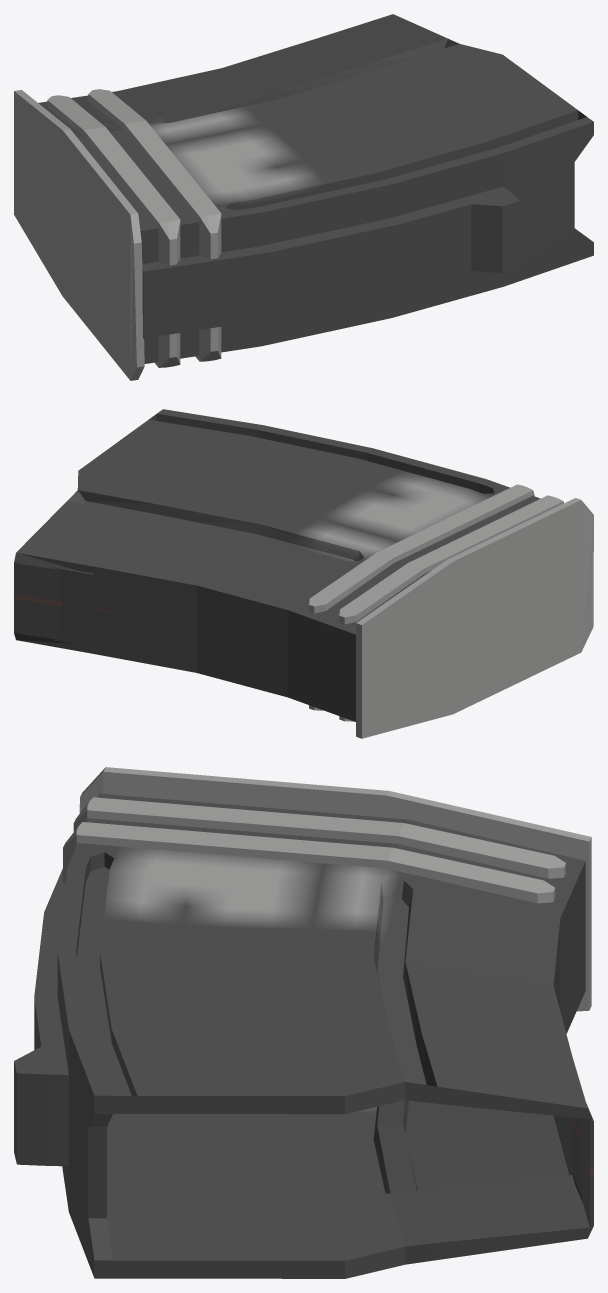
Rendered from ReplikaSniperClip.fbx.
3 views of the same model, one above another, from view 1: azimuth 30°, elevation 25°; view 2: azimuth 150°, elevation 25°; view 3: azimuth 270°, elevation 25° (orthographic). The views are drawn at different scales.
Visible parts, largest first — view 1: SVUMag; view 2: SVUMag; view 3: SVUMag.
Boxes of the visible parts, x1,y1,x2,y2 form: SVUMag: (14, 14, 593, 380); SVUMag: (14, 409, 593, 738); SVUMag: (14, 767, 593, 1278).
Size of the model in its own units: 0.0722 by 0.0312 by 0.0914.
